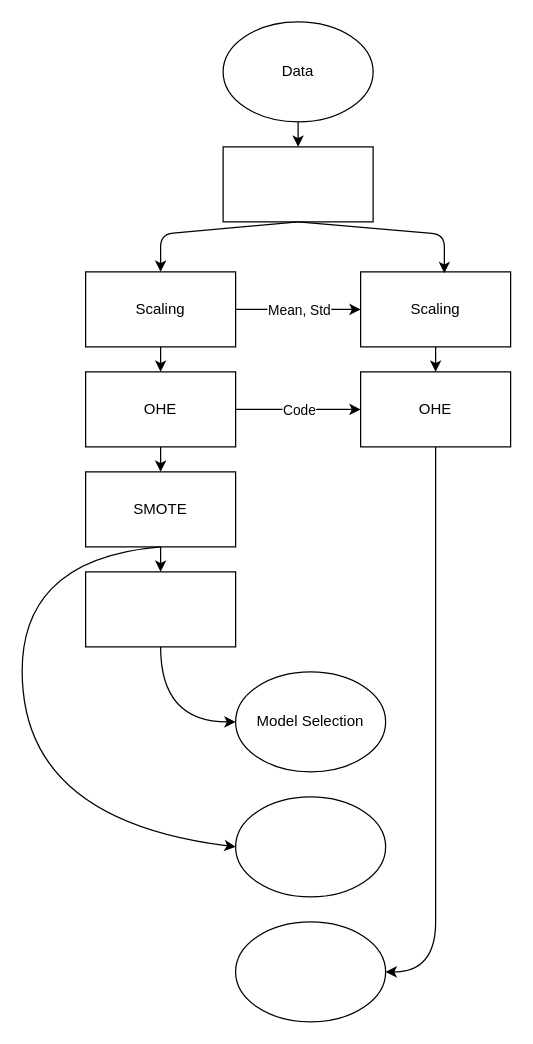
Some shapes in this 533 by 1044 pixel diagram are drawn without their labels. Here are the shapes that lost their labels. From the top down, the box of each, then its label:
(222, 146, 373, 222): Train/Test Split
(84, 571, 236, 647): Cross Validation
(234, 796, 386, 897): Training
(234, 921, 386, 1022): Test
